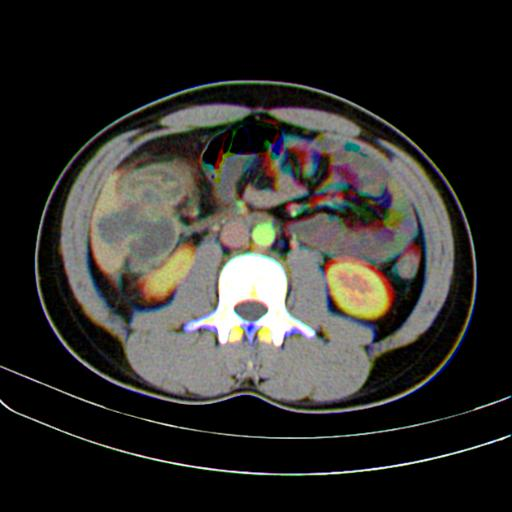Abscess: (95, 169, 180, 267)
